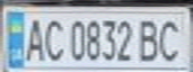0: (66, 16, 84, 62)
2: (115, 16, 136, 62)
3: (100, 16, 121, 62)
8: (84, 16, 103, 62)
A: (21, 14, 48, 63)
B: (136, 16, 163, 63)
C: (154, 15, 187, 63), (39, 15, 66, 63)
